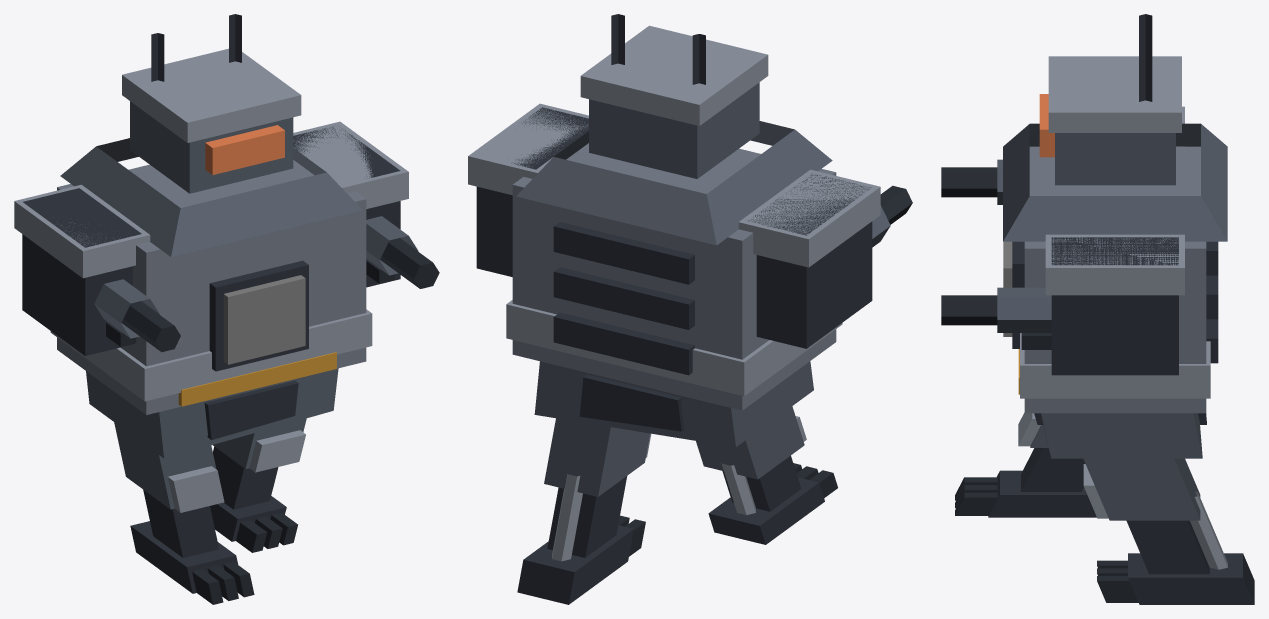
Rendered from heavy-walk-6.obj.
3 renders of one model, left to right at view 1: azimuth 30°, elevation 25°; view 2: azimuth 150°, elevation 25°; view 3: azimuth 270°, elevation 25°, orthographic. The views are drawn at different scales.
Parts seen in each view (by area): view 1: heavy-walk-6; view 2: heavy-walk-6; view 3: heavy-walk-6.
Boxes of the visible parts, box(x1,y1,x2,y2) form: heavy-walk-6: box(14, 14, 439, 604); heavy-walk-6: box(468, 14, 912, 604); heavy-walk-6: box(941, 14, 1254, 604).
Bounding box in the file's own units: 2.52 × 3.85 × 2.07.
